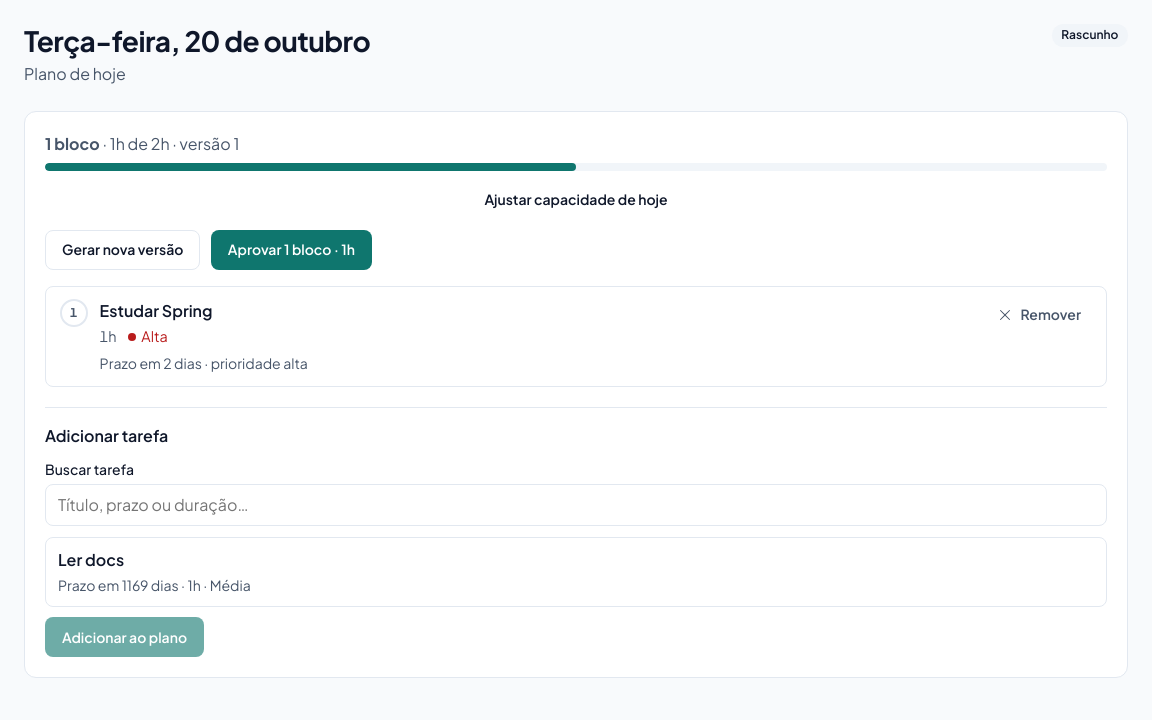
Test: HomePage — plano do dia › gerar plano › permite gerar nova versão em RASCUNHO
Click the button "Gerar nova versão" at [123, 250], box [45,230,200,270]
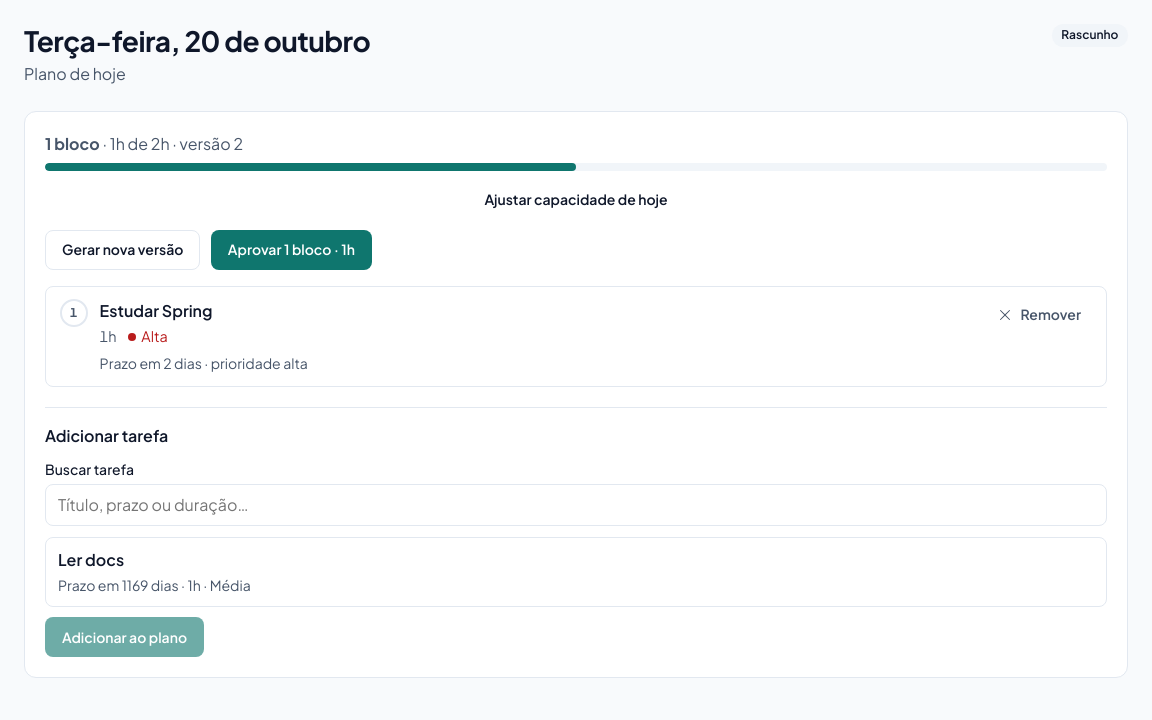
Expected: the text "· versão 2" is shown, [170,133,243,154]
